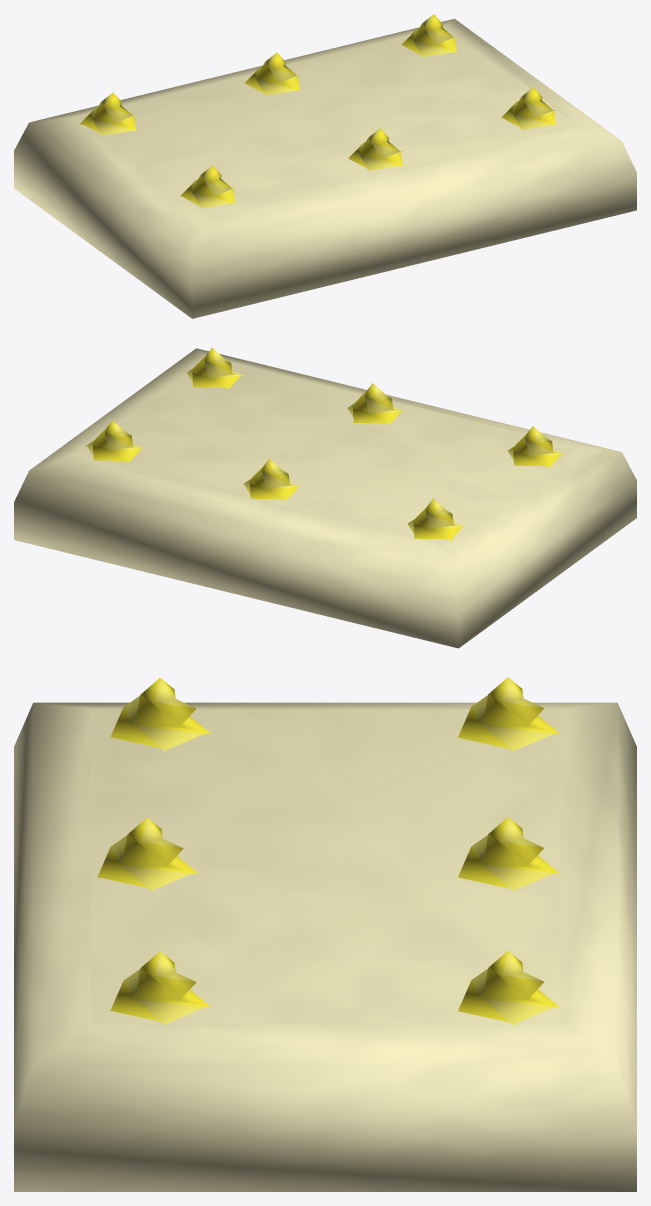
Rendered from Sheet_Cake_A_7.FBX.
3 renders of one model, top to bottom at view 1: azimuth 30°, elevation 25°; view 2: azimuth 150°, elevation 25°; view 3: azimuth 270°, elevation 25°, orthographic. The views are drawn at different scales.
Parts seen in each view (by area): view 1: Sheet Cake; view 2: Sheet Cake; view 3: Sheet Cake.
Boxes of the visible parts, x1=… form: Sheet Cake: x1=14, y1=14, x2=636, y2=318; Sheet Cake: x1=14, y1=347, x2=636, y2=648; Sheet Cake: x1=14, y1=677, x2=636, y2=1191.
Size of the model in its own units: 180 by 41.76 by 125.
